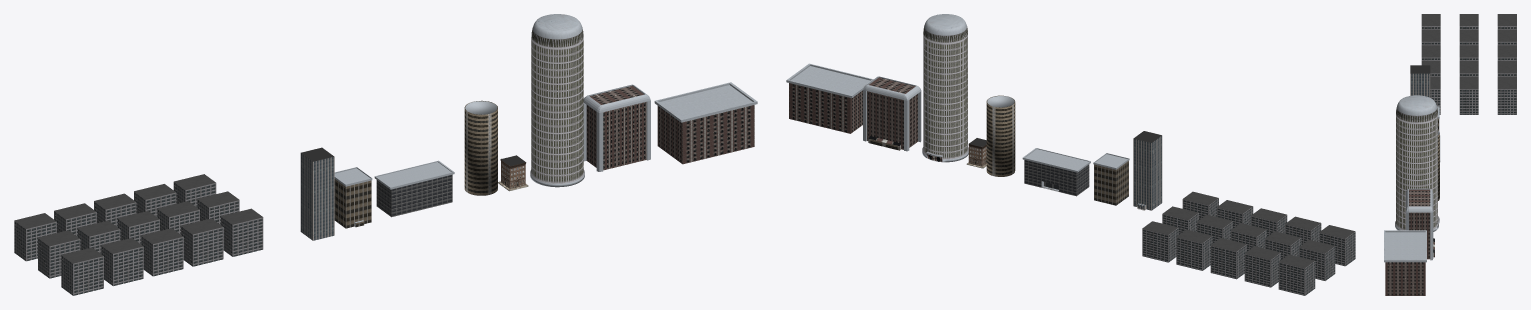
File: super_low-poly_background_buildings.glb
3 views of the same model, side by side, from view 1: azimuth 30°, elevation 25°; view 2: azimuth 150°, elevation 25°; view 3: azimuth 270°, elevation 25° (orthographic). The views are drawn at different scales.
Visible parts, largest first — view 1: Low-poly city block1_8, Low-poly Building 6 cylinder tall by JJ_5, Low-poly Building 4 extra wide by JJ_3, Low-poly Building 3 tall by JJ_2, Low-poly Building 2 wide by JJ_1, Low-poly Building 5 cylinder by JJ_4, Low-poly Building 7 tall by JJ_6, Low-poly Building 1 by JJ_0, Low-poly Building 8 small by JJ_7; view 2: Low-poly city block1_8, Low-poly Building 6 cylinder tall by JJ_5, Low-poly Building 4 extra wide by JJ_3, Low-poly Building 3 tall by JJ_2, Low-poly Building 2 wide by JJ_1, Low-poly Building 5 cylinder by JJ_4, Low-poly Building 7 tall by JJ_6, Low-poly Building 1 by JJ_0, Low-poly Building 8 small by JJ_7; view 3: Low-poly city block1_8, Low-poly Building 6 cylinder tall by JJ_5, Low-poly Building 4 extra wide by JJ_3, Low-poly Building 3 tall by JJ_2, Low-poly Building 7 tall by JJ_6, Low-poly Building 5 cylinder by JJ_4.
Boxes of the visible parts, box(x1,y1,x2,y2) form: Low-poly city block1_8: box(14, 174, 263, 295); Low-poly Building 6 cylinder tall by JJ_5: box(530, 14, 584, 187); Low-poly Building 4 extra wide by JJ_3: box(654, 82, 757, 164); Low-poly Building 3 tall by JJ_2: box(583, 84, 650, 171); Low-poly Building 2 wide by JJ_1: box(374, 160, 454, 217); Low-poly Building 5 cylinder by JJ_4: box(464, 100, 497, 195); Low-poly Building 7 tall by JJ_6: box(300, 147, 334, 240); Low-poly Building 1 by JJ_0: box(334, 167, 372, 228); Low-poly Building 8 small by JJ_7: box(498, 155, 528, 191); Low-poly city block1_8: box(1142, 191, 1355, 295); Low-poly Building 6 cylinder tall by JJ_5: box(922, 14, 968, 162); Low-poly Building 4 extra wide by JJ_3: box(786, 63, 873, 133); Low-poly Building 3 tall by JJ_2: box(863, 76, 921, 151); Low-poly Building 2 wide by JJ_1: box(1022, 148, 1090, 196); Low-poly Building 5 cylinder by JJ_4: box(986, 95, 1015, 176); Low-poly Building 7 tall by JJ_6: box(1133, 131, 1162, 210); Low-poly Building 1 by JJ_0: box(1093, 153, 1129, 205); Low-poly Building 8 small by JJ_7: box(966, 138, 986, 168); Low-poly city block1_8: box(1421, 14, 1516, 114); Low-poly Building 6 cylinder tall by JJ_5: box(1395, 95, 1439, 231); Low-poly Building 4 extra wide by JJ_3: box(1384, 230, 1426, 295); Low-poly Building 3 tall by JJ_2: box(1406, 188, 1434, 260); Low-poly Building 7 tall by JJ_6: box(1410, 65, 1430, 97); Low-poly Building 5 cylinder by JJ_4: box(1438, 130, 1439, 200).
Size of the model in its own units: 813 by 186 by 175.
Materials: 19 (18 with a texture image).
